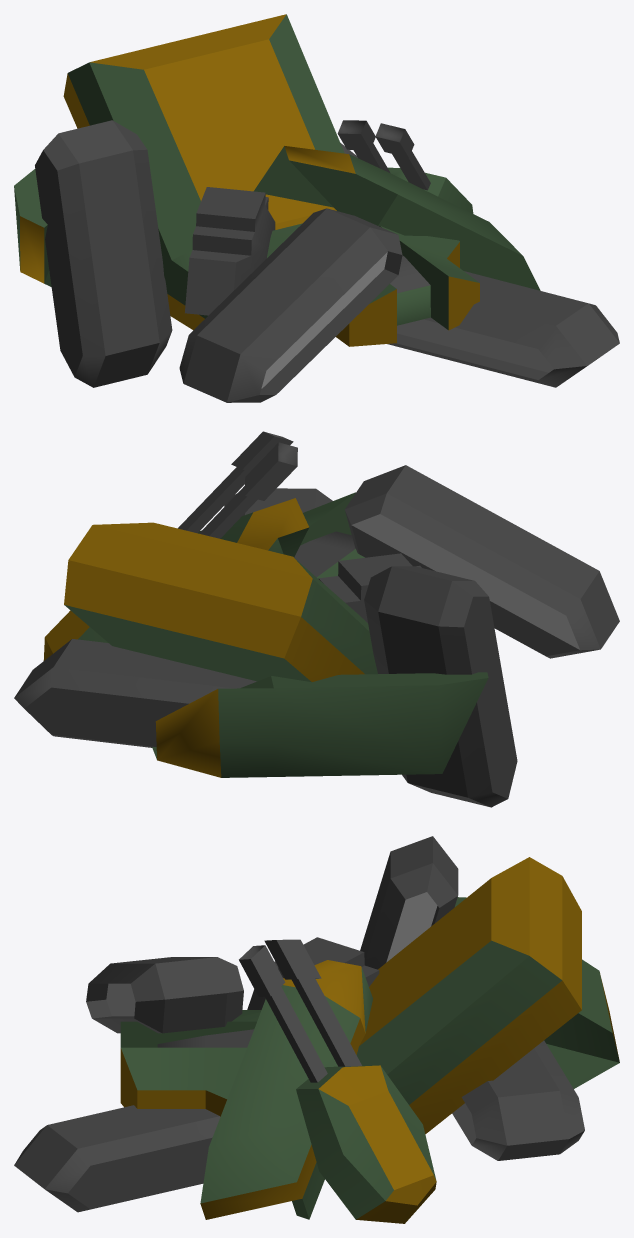
Rendered from prop_junkedtank.fbx.
The picture shows the model from 3 angles, top to bottom: view 1: azimuth 30°, elevation 25°; view 2: azimuth 150°, elevation 25°; view 3: azimuth 270°, elevation 25°; orthographic projection. The views are drawn at different scales.
Parts seen in each view (by area): view 1: pCube1, pCube8, pCube9, pCube5, pCube10, pCube3, pCube4, pCube7, pCube11; view 2: pCube1, pCube11, pCube9, pCube8, pCube6, pCube7, pCube3, pCube10, pCube4, pCube5; view 3: pCube1, pCube7, pCube10, pCube5, pCube9, pCube3, pCube6, pCube8, pCube11, pCube4.
Boxes of the visible parts, x1=… form: pCube1: x1=63, y1=14, x2=344, y2=330; pCube8: x1=35, y1=120, x2=172, y2=387; pCube9: x1=179, y1=208, x2=402, y2=402; pCube5: x1=387, y1=271, x2=619, y2=387; pCube10: x1=254, y1=146, x2=540, y2=290; pCube3: x1=267, y1=223, x2=479, y2=346; pCube4: x1=185, y1=187, x2=275, y2=315; pCube7: x1=337, y1=120, x2=473, y2=213; pCube11: x1=14, y1=169, x2=51, y2=286; pCube1: x1=64, y1=522, x2=377, y2=682; pCube11: x1=152, y1=672, x2=488, y2=777; pCube9: x1=344, y1=465, x2=619, y2=658; pCube8: x1=364, y1=566, x2=517, y2=807; pCube6: x1=14, y1=639, x2=256, y2=747; pCube7: x1=43, y1=431, x2=297, y2=660; pCube3: x1=294, y1=492, x2=364, y2=578; pCube10: x1=198, y1=498, x2=309, y2=557; pCube4: x1=318, y1=553, x2=421, y2=622; pCube5: x1=224, y1=488, x2=332, y2=515; pCube1: x1=356, y1=857, x2=581, y2=1134; pCube7: x1=239, y1=939, x2=436, y2=1223; pCube10: x1=200, y1=960, x2=372, y2=1219; pCube5: x1=14, y1=1105, x2=220, y2=1212; pCube9: x1=86, y1=957, x2=243, y2=1033; pCube3: x1=120, y1=1010, x2=261, y2=1116; pCube6: x1=452, y1=1040, x2=584, y2=1160; pCube8: x1=360, y1=836, x2=458, y2=969; pCube11: x1=455, y1=897, x2=619, y2=1088; pCube4: x1=247, y1=937, x2=379, y2=1009.
Bounding box in the file's own units: 8.14 × 4.55 × 9.88.
